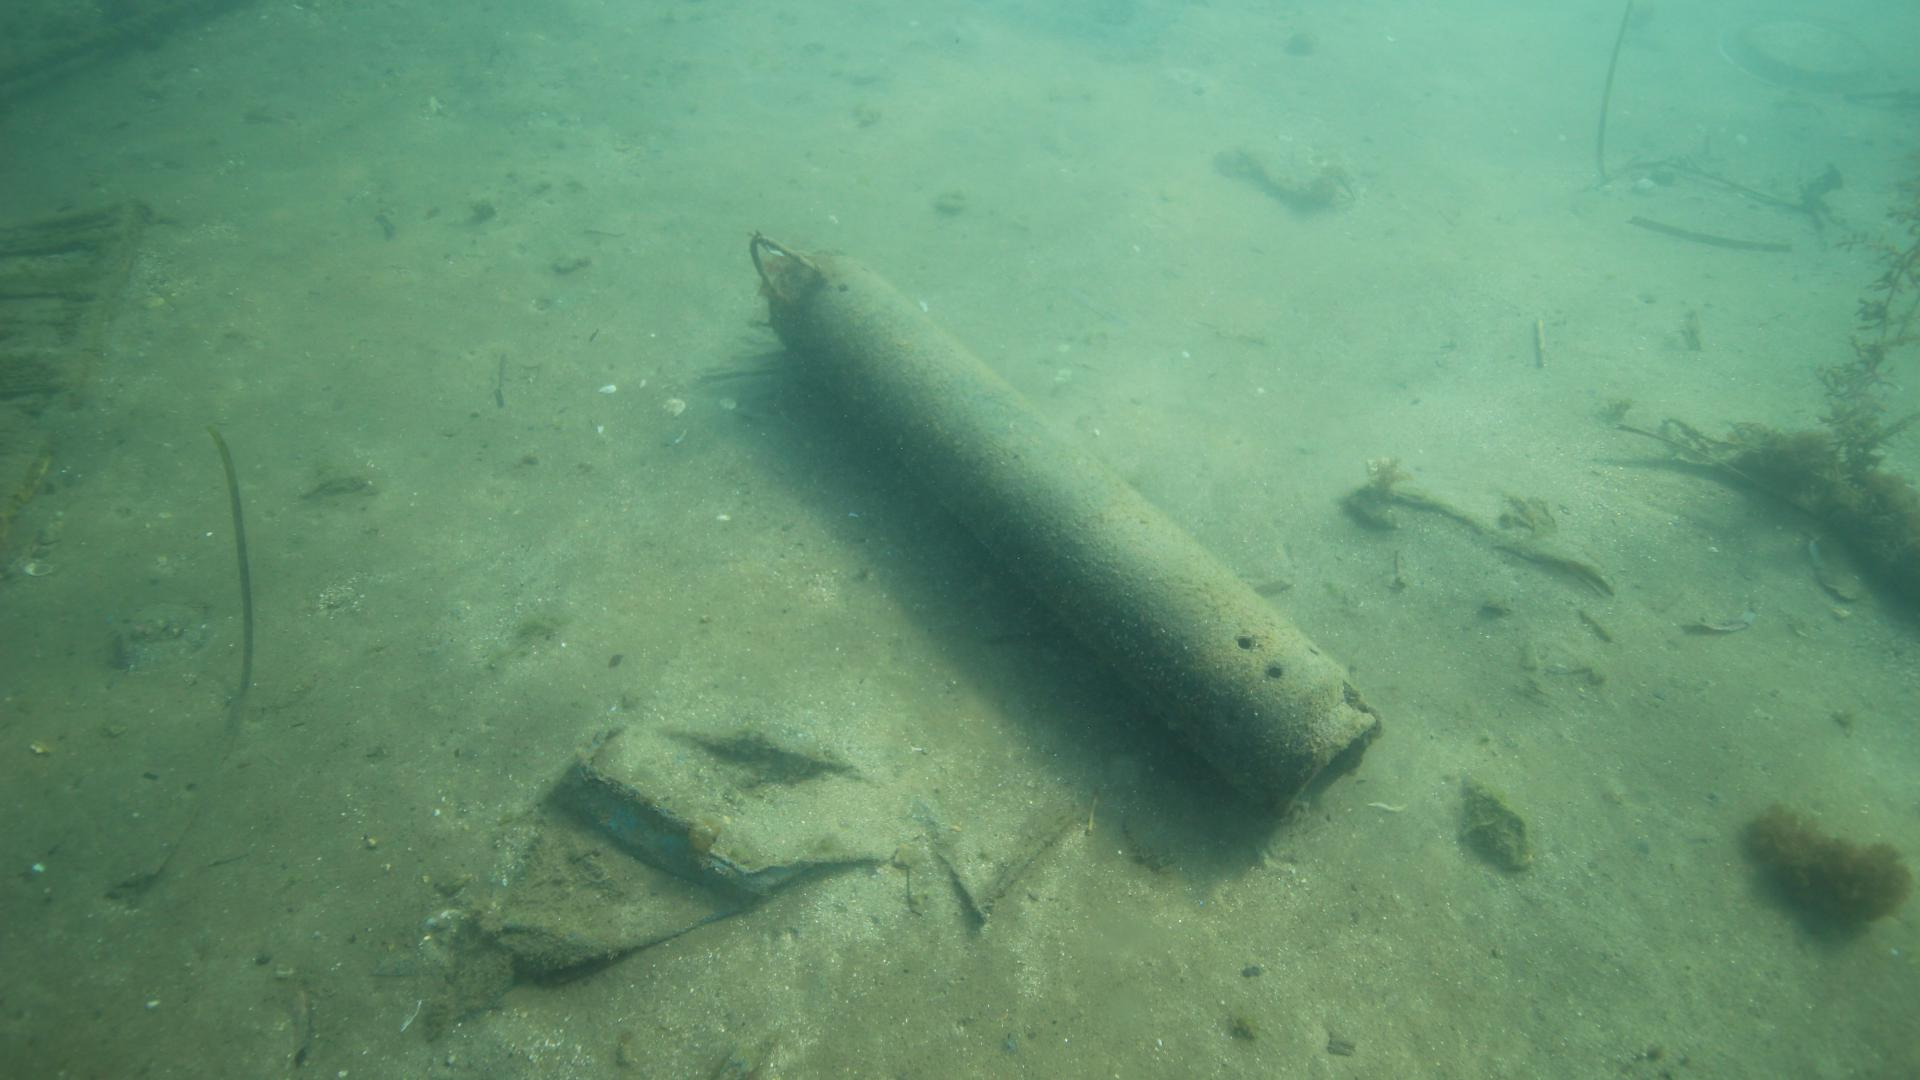eel fish trap: (764, 245, 1389, 823)
rope: (745, 231, 828, 295)
